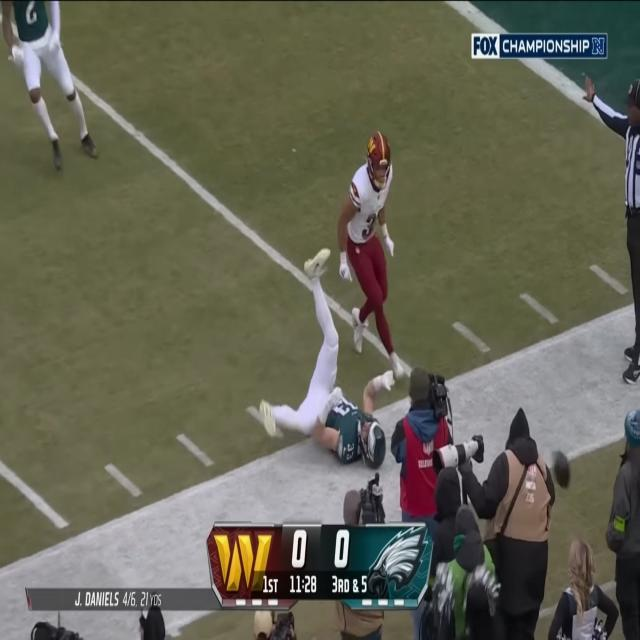Ball: (552, 448, 574, 491)
